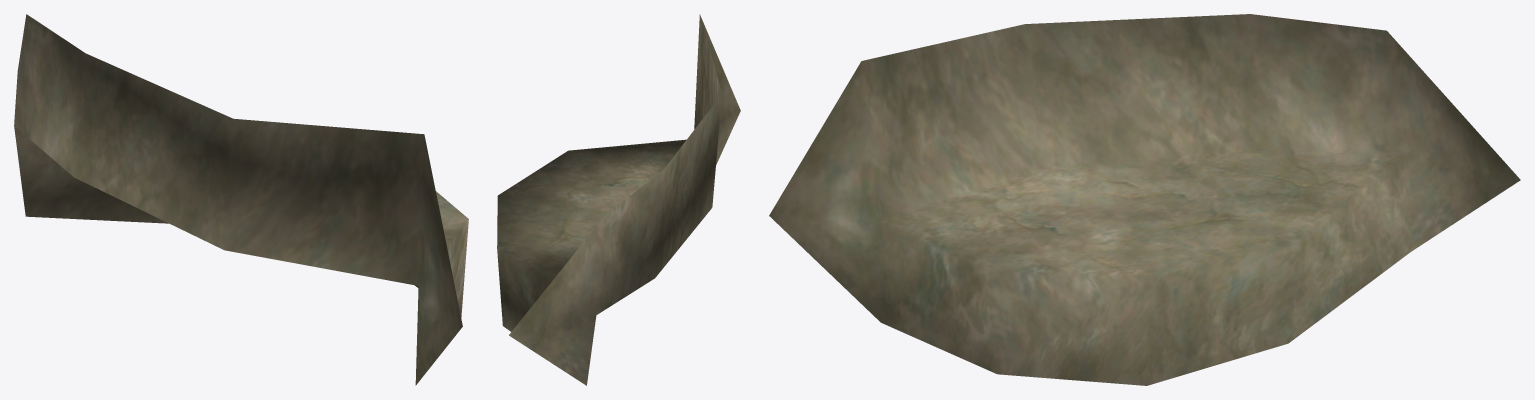
File: EKH_CAVERNS_PS_CA_PLATFORM94847.fbx
3 views of the same model, side by side, from view 1: azimuth 30°, elevation 25°; view 2: azimuth 150°, elevation 25°; view 3: azimuth 270°, elevation 25° (orthographic). The views are drawn at different scales.
Visible parts, largest first — view 1: EKH_CAVERNS_PS_CA_PLATFORM94847; view 2: EKH_CAVERNS_PS_CA_PLATFORM94847; view 3: EKH_CAVERNS_PS_CA_PLATFORM94847.
Part boxes in pixels (x1,y1,x2,y2): EKH_CAVERNS_PS_CA_PLATFORM94847: [14, 14, 468, 385]; EKH_CAVERNS_PS_CA_PLATFORM94847: [497, 14, 740, 385]; EKH_CAVERNS_PS_CA_PLATFORM94847: [769, 14, 1520, 385].
Size of the model in its own units: 13346 by 13010 by 32845.
Materials: 1 (1 with a texture image).
